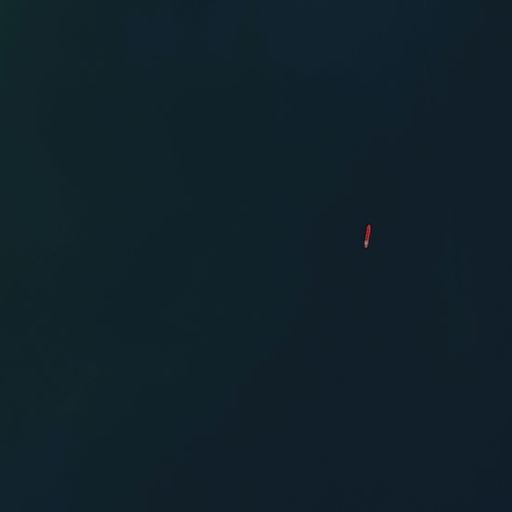ship: (360, 221, 373, 252)
